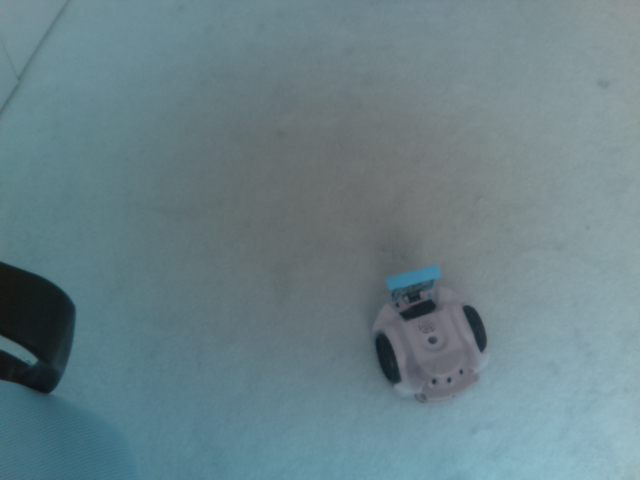board: (376, 264, 450, 312)
chassis: (352, 259, 497, 406)
